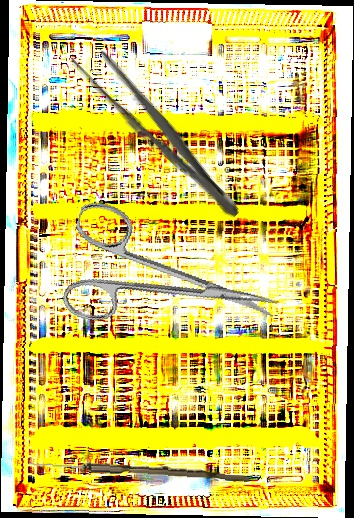Dressing Forceps: (65, 37, 251, 228)
Iris Scissors: (52, 197, 290, 370)
Surgical Spoon: (28, 459, 250, 482)
